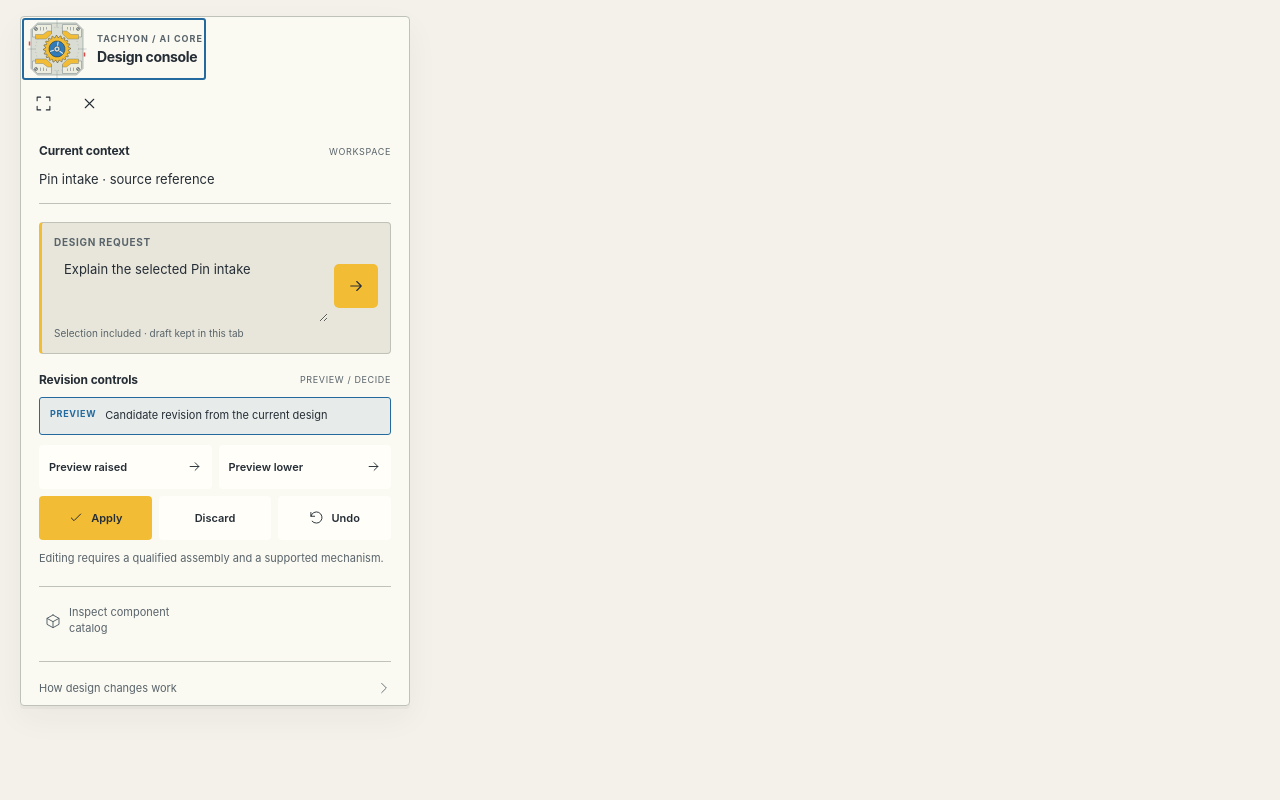
Test case: delegates Discard without inventing a revision result
Expected: the text "Candidate revision from the current design" is shown, [105, 408, 328, 422]
Click the button "Discard" at x=215, y=518, box [159, 496, 271, 540]
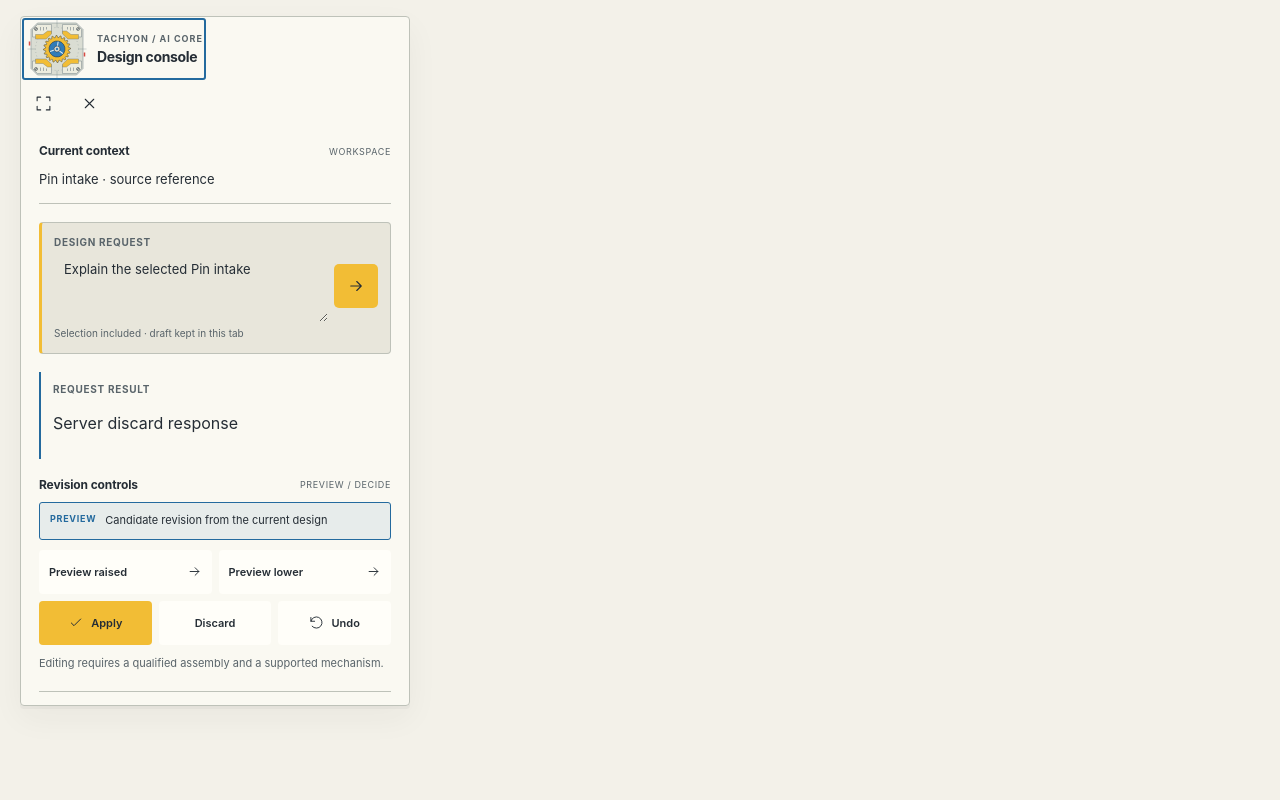
Expected: the message reads "Request result Server discard response", [53, 413, 238, 433]
